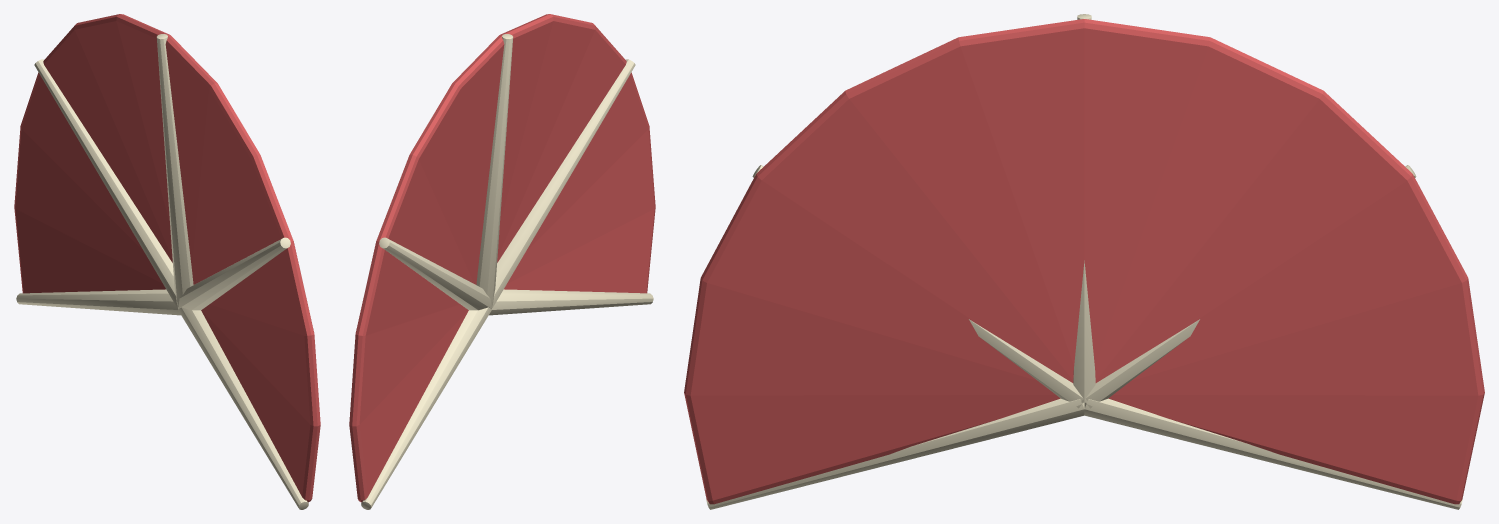
The model's file is frill_fan.glb.
3 renders of one model, left to right at view 1: azimuth 30°, elevation 25°; view 2: azimuth 150°, elevation 25°; view 3: azimuth 270°, elevation 25°, orthographic. The views are drawn at different scales.
Visible parts, largest first — view 1: frill_fan; view 2: frill_fan; view 3: frill_fan.
Part boxes in pixels (box(x1,y1,x2,y2)): frill_fan: box(14, 14, 320, 509); frill_fan: box(349, 14, 655, 509); frill_fan: box(684, 14, 1484, 509).
Size of the model in its own units: 0.1627 by 1.29 by 1.9.
